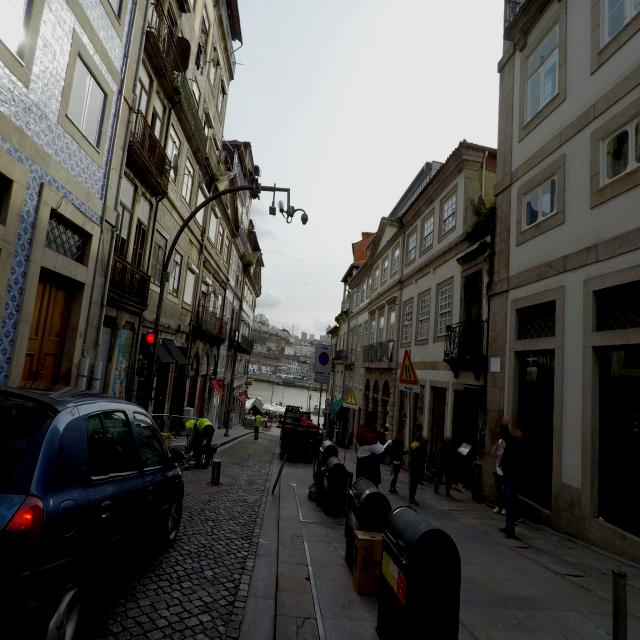car: (0, 382, 184, 640), (279, 405, 316, 462)
